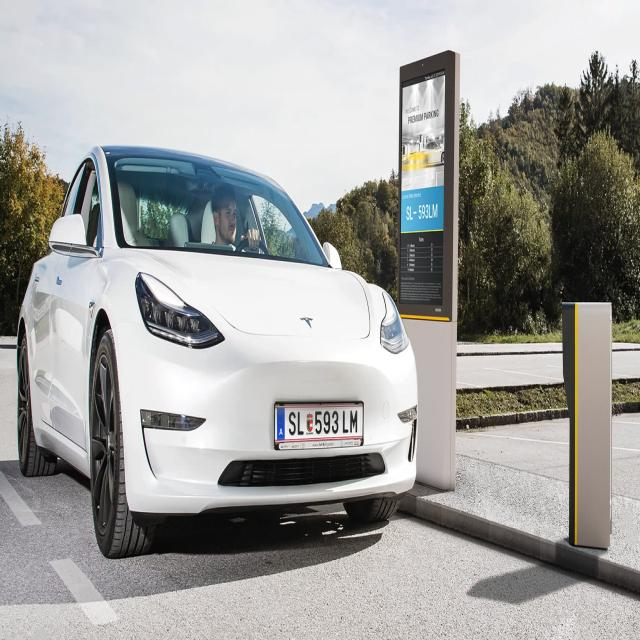license: (268, 390, 371, 462)
